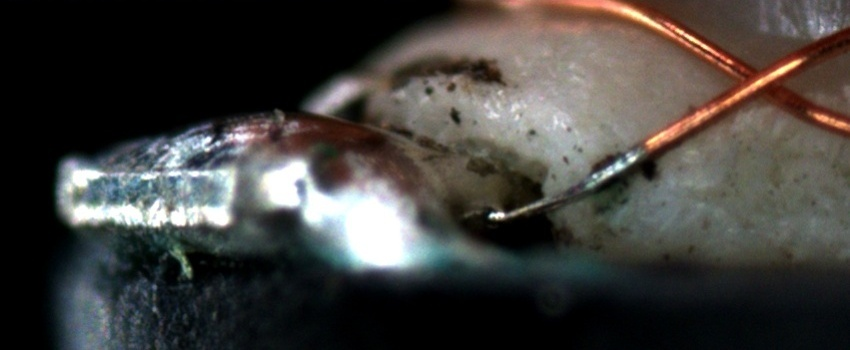CL: (713, 45, 807, 111)
TS: (479, 142, 649, 225)
TTCW: (486, 113, 698, 226)
